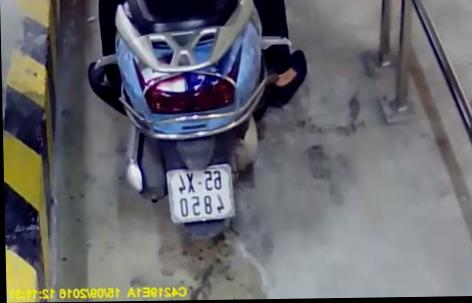License_Plate: (161, 161, 238, 226)
